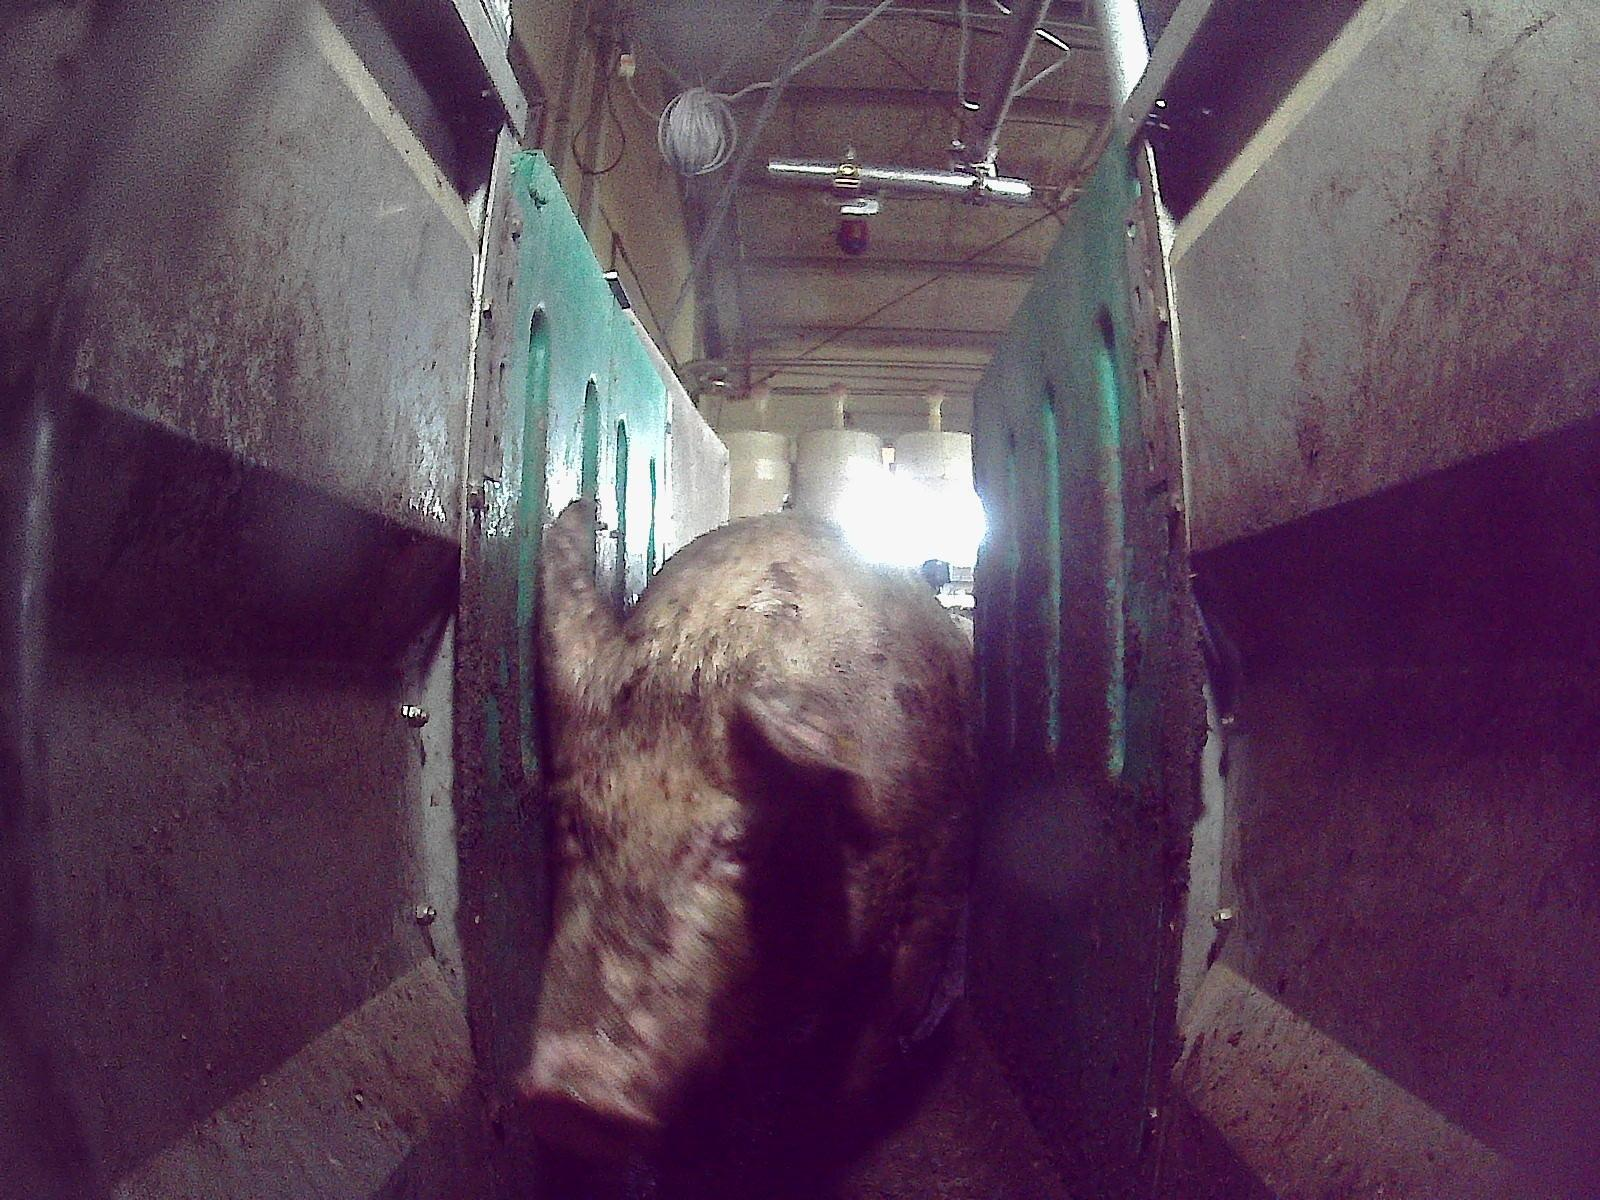Face: (516, 667, 818, 1159)
